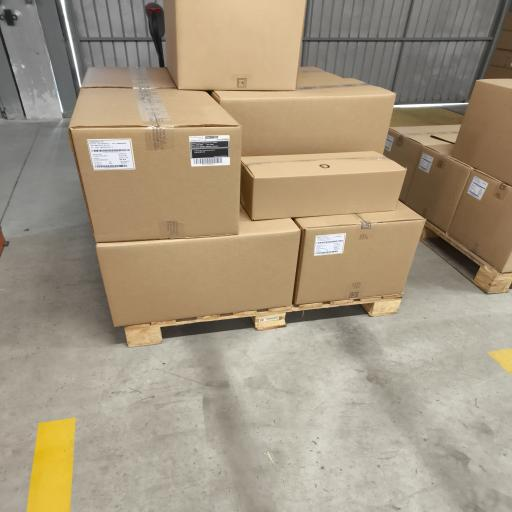pallet: (125, 294, 402, 348), (421, 222, 511, 293)
